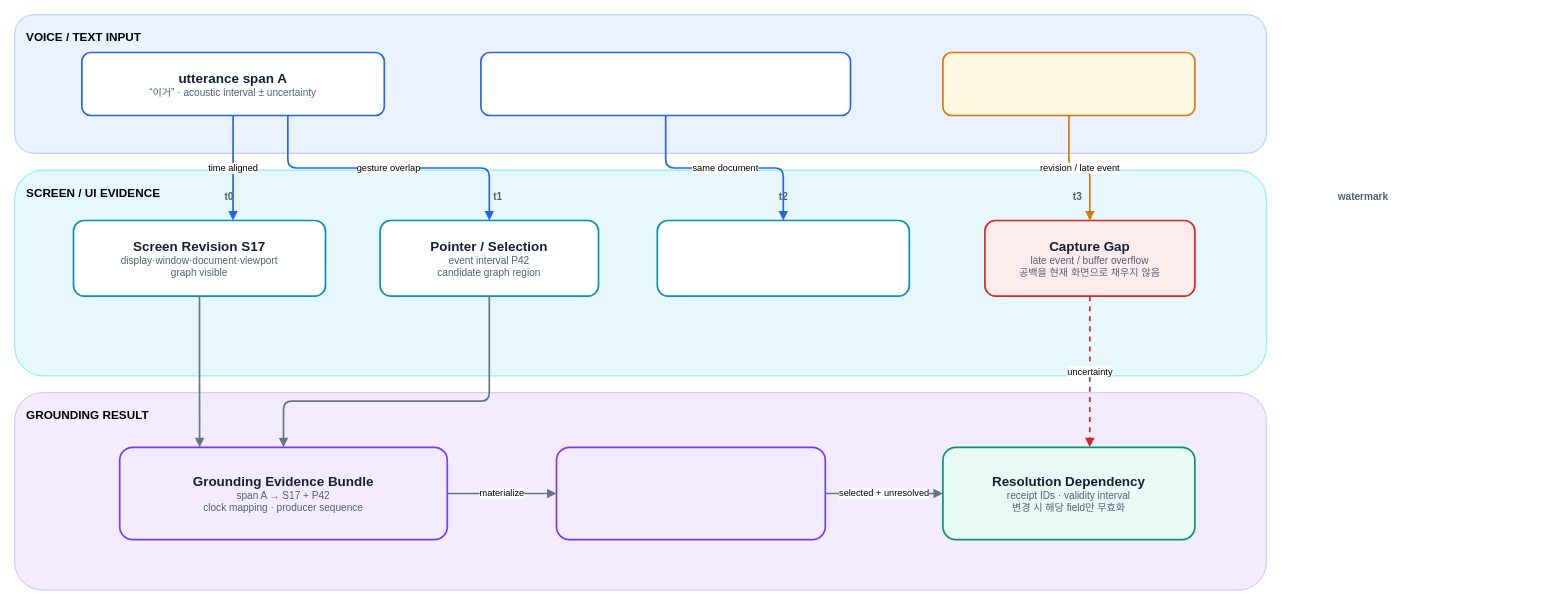
Image size: 1554x605. Some labels were removed from this diagram. The shapes that lost their labels are listed below. From the top down, each one's centre as x and y in pixels, then its label:
the point at 665,83: utterance span B “지난번 발표자료” · final transcript revision
the point at 1068,83: Transcript Revision partial → final 변경
the point at 783,258: Screen Revision S18 scroll / focus changed same document identity
the point at 690,493: Candidate Referents Graph-7 · Graph-8 coverage · exclusion reason
